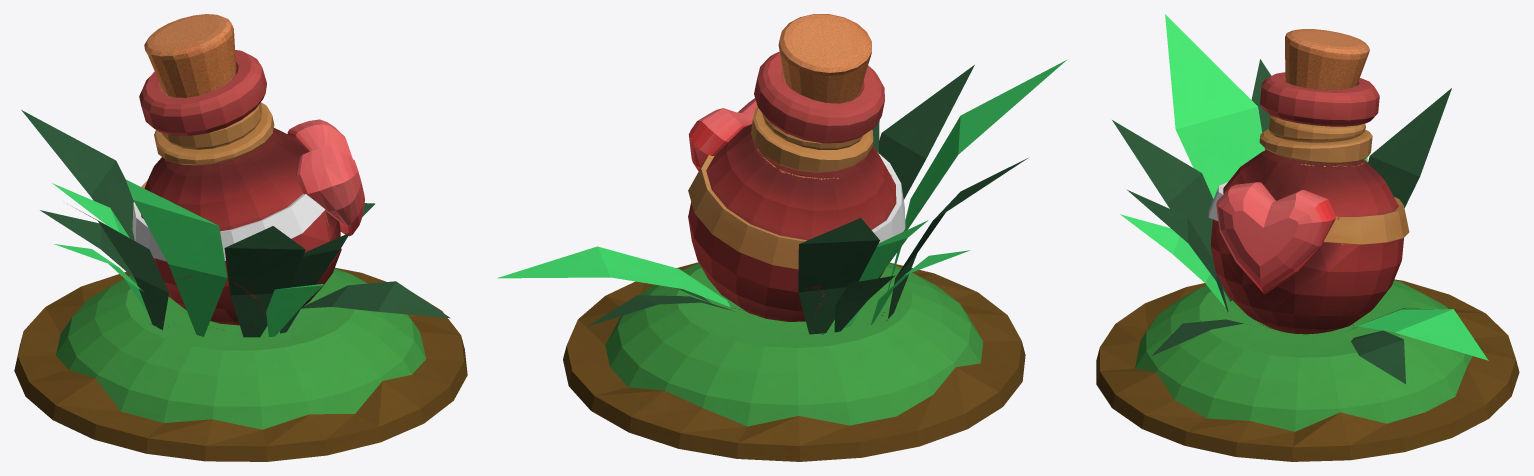
3 views of the same model, side by side, from view 1: azimuth 30°, elevation 25°; view 2: azimuth 150°, elevation 25°; view 3: azimuth 270°, elevation 25° (orthographic). The views are drawn at different scales.
Parts seen in each view (by area): view 1: model; view 2: model; view 3: model.
Boxes of the visible parts, x1,y1,x2,y2 form: model: (14, 14, 467, 461); model: (497, 14, 1066, 461); model: (1096, 14, 1519, 461).
Size of the model in its own units: 0.9271 by 0.7605 by 0.9032.
1 material, 1 textured.
